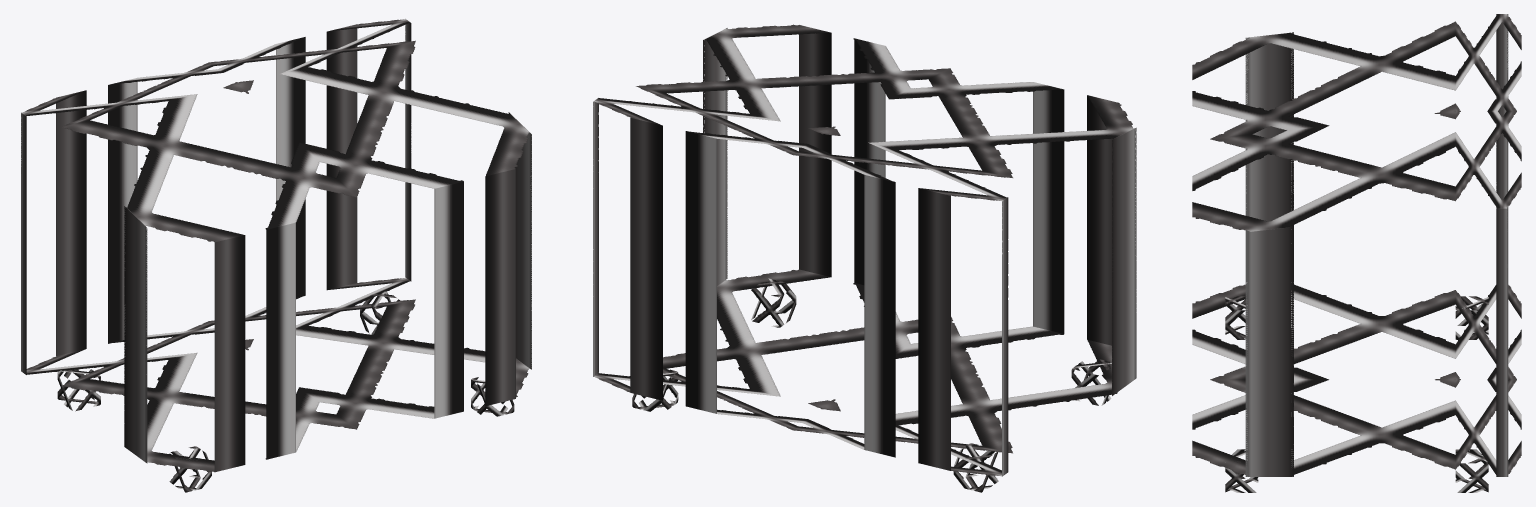
The model's file is conteneur.fbx.
3 views of the same model, side by side, from view 1: azimuth 30°, elevation 25°; view 2: azimuth 150°, elevation 25°; view 3: azimuth 270°, elevation 25° (orthographic). The views are drawn at different scales.
Parts seen in each view (by area): view 1: conteneur; view 2: conteneur; view 3: conteneur.
Boxes of the visible parts, x1=… form: conteneur: x1=21, y1=19, x2=531, y2=492; conteneur: x1=593, y1=24, x2=1136, y2=492; conteneur: x1=1192, y1=14, x2=1521, y2=492.
Size of the model in its own units: 140 by 100 by 100.
